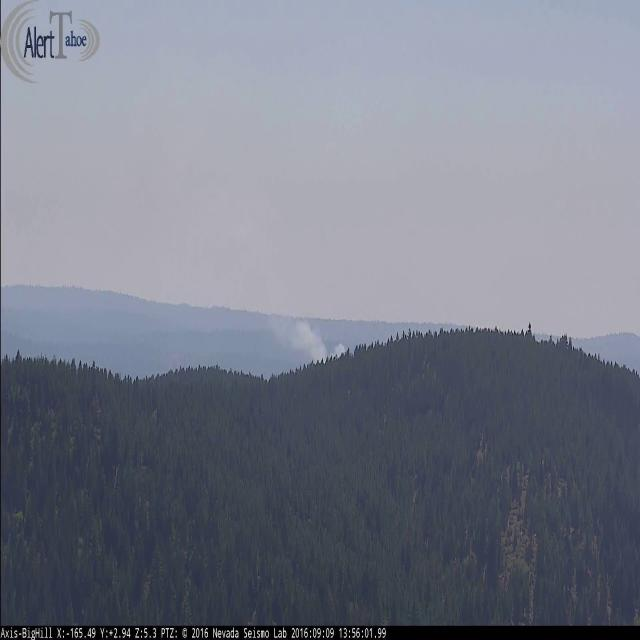smoke: (223, 224, 349, 367)
